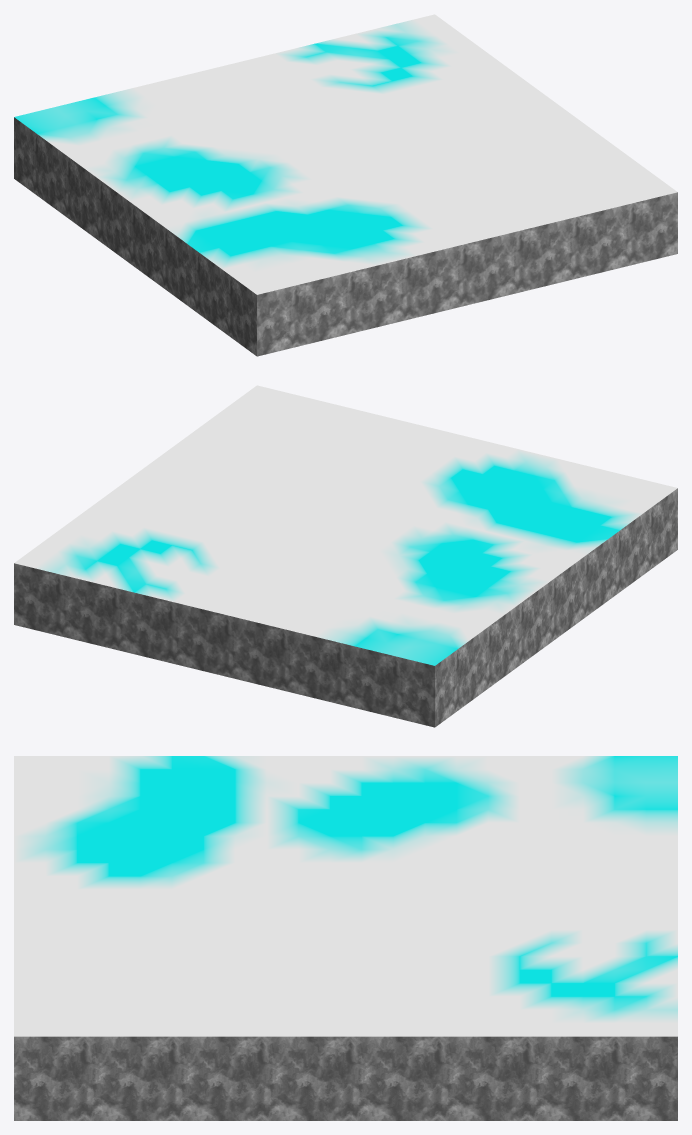
3 views of the same model, one above another, from view 1: azimuth 30°, elevation 25°; view 2: azimuth 150°, elevation 25°; view 3: azimuth 270°, elevation 25° (orthographic). The views are drawn at different scales.
Parts seen in each view (by area): view 1: SM_floor_module; view 2: SM_floor_module; view 3: SM_floor_module.
Boxes of the visible parts, x1=… form: SM_floor_module: x1=14, y1=14, x2=677, y2=356; SM_floor_module: x1=14, y1=385, x2=677, y2=727; SM_floor_module: x1=14, y1=756, x2=677, y2=1120.
Size of the model in its own units: 3000 by 3000 by 420.
Materials: 2 (1 with a texture image).
